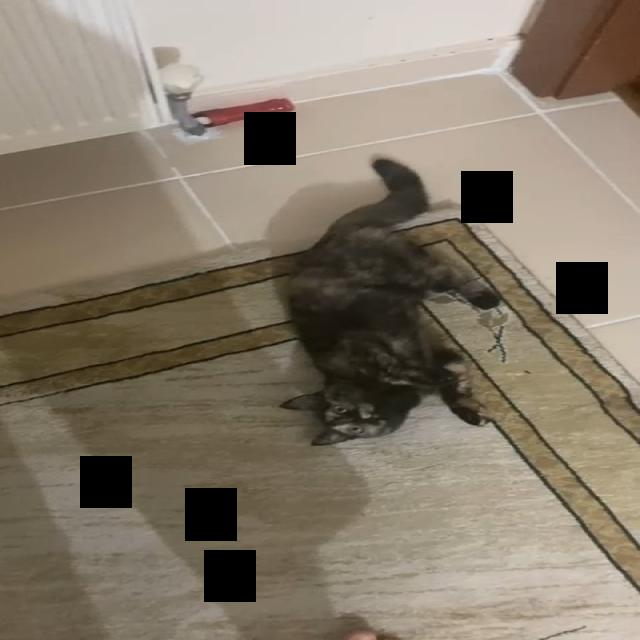authorized: (276, 156, 501, 446)
